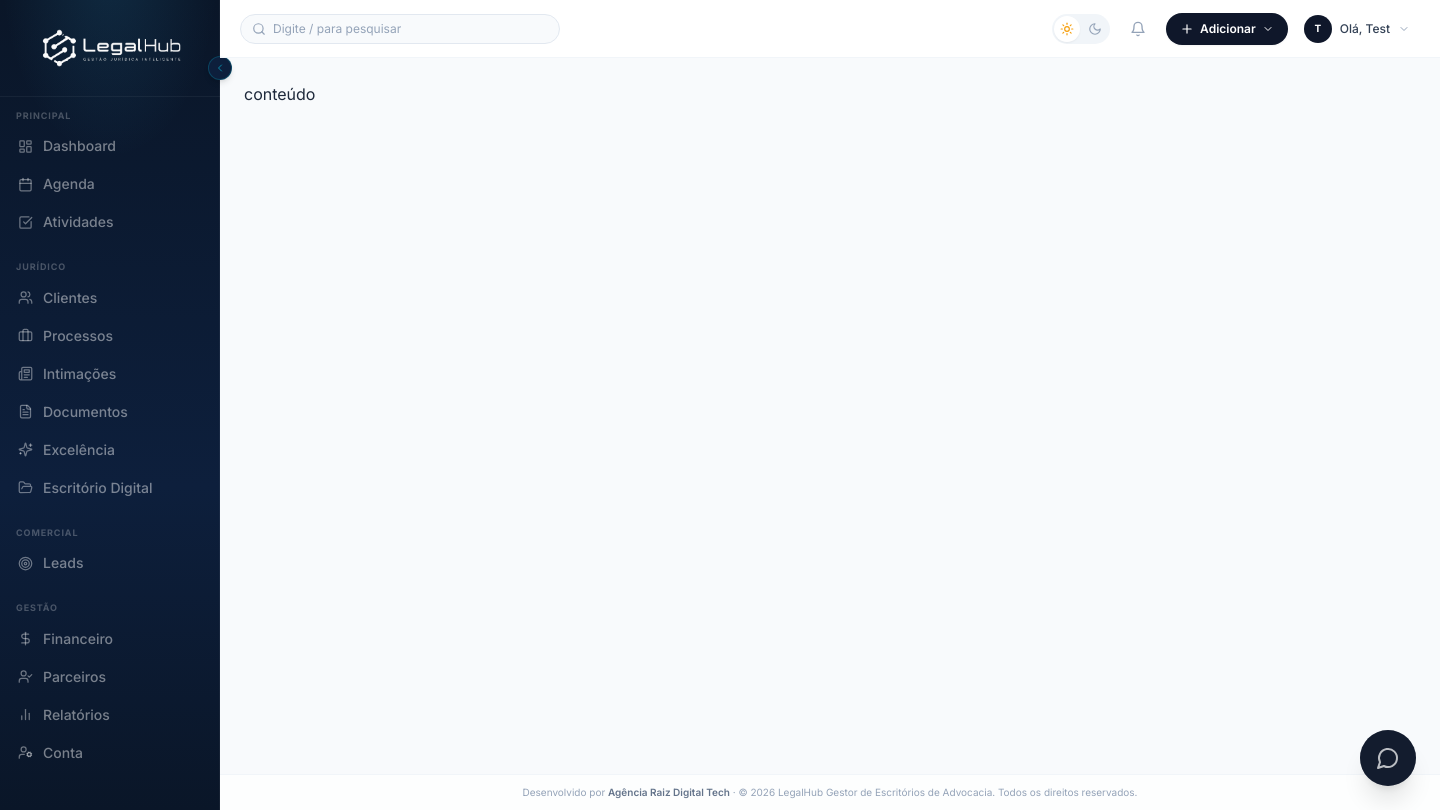
Layout — busca com resultados › exibe seção Tarefas quando há resultados
This screenshot has width=1440, height=810.
In the field with placeholder "Digite / para pesquisar": (400, 28) [240,14,560,44], type "pr"
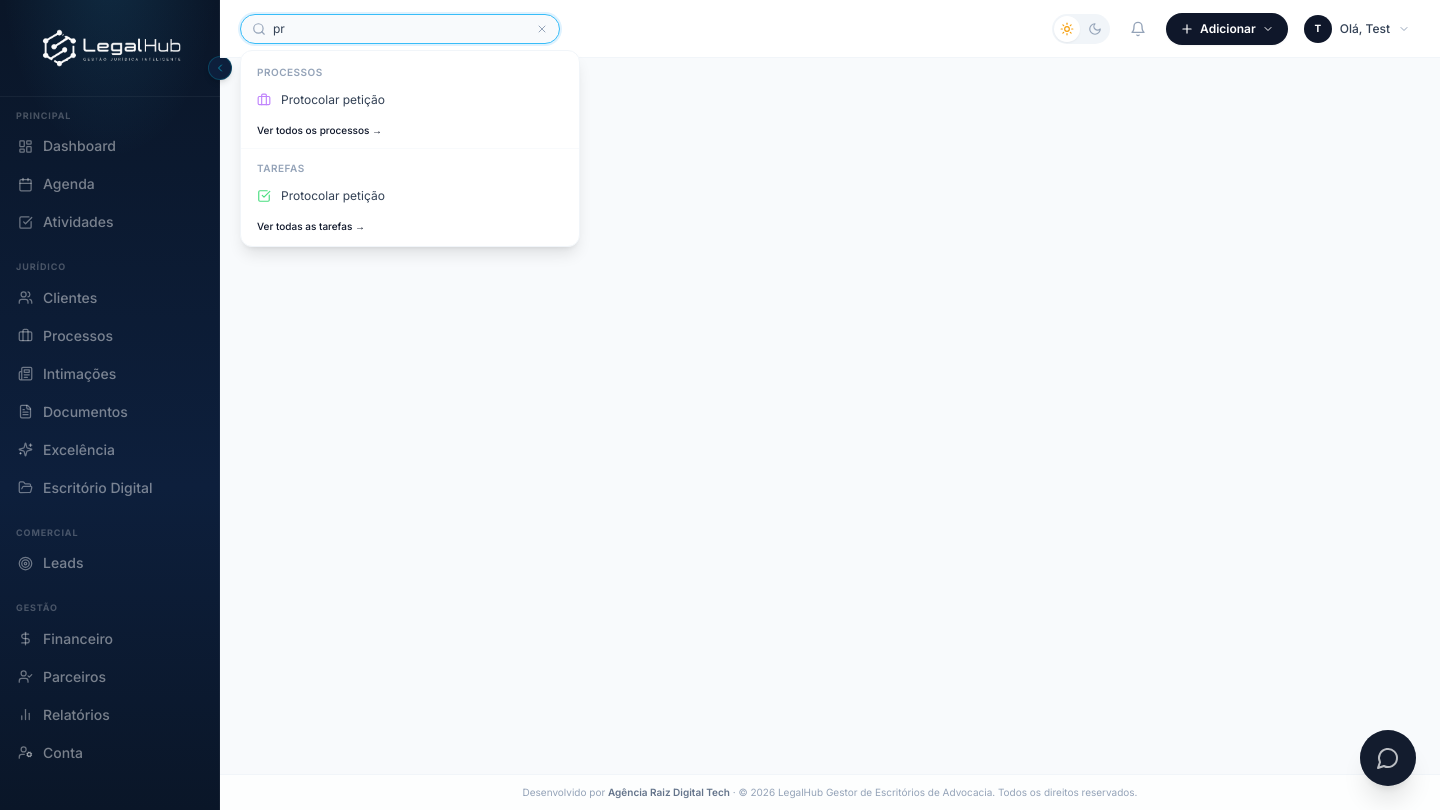
Now the text "Tarefas" is shown, box [257,162,305,174]
